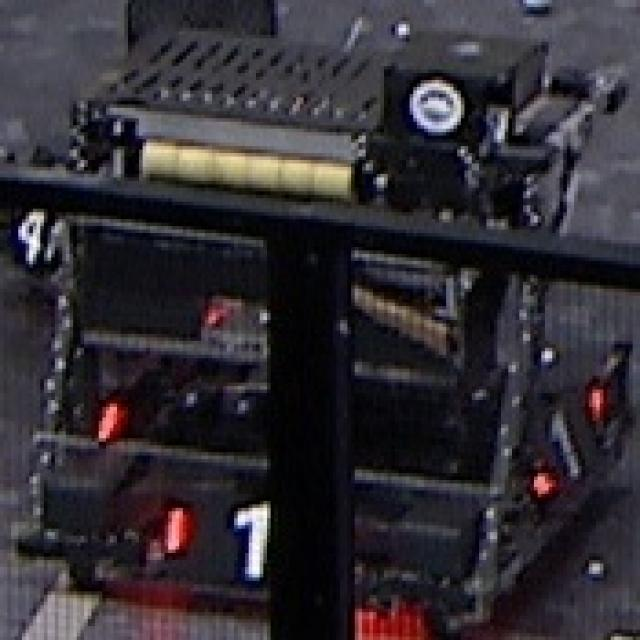R1: (139, 476, 293, 592), (510, 358, 620, 512)
